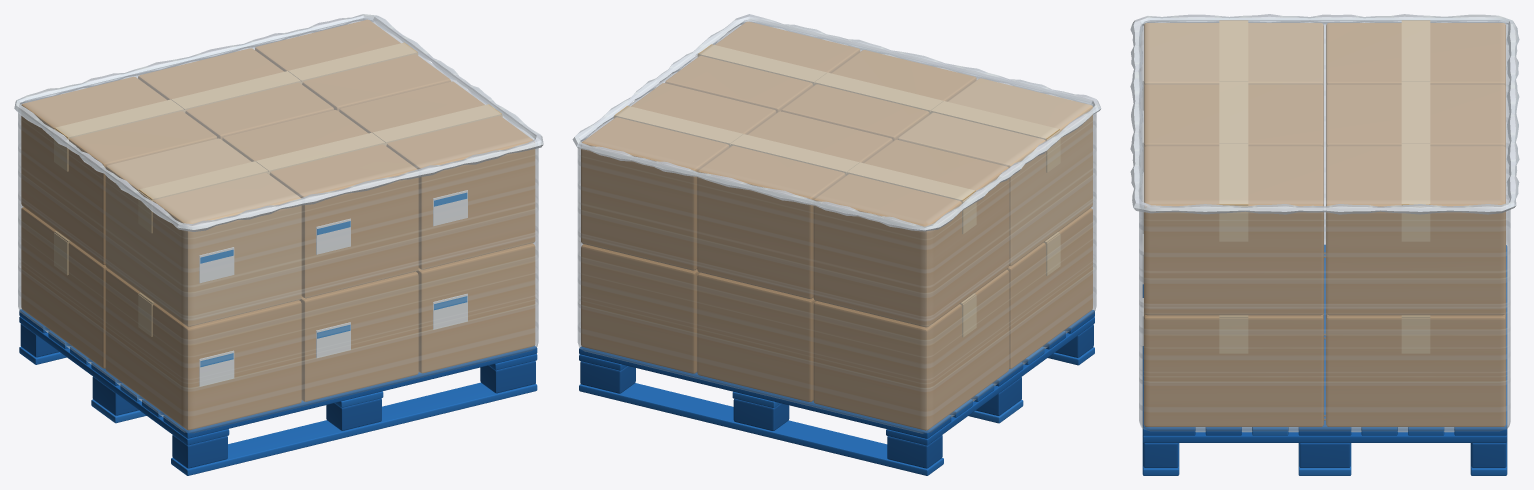
File: pallet_load_half.glb
The picture shows the model from 3 angles, left to right: view 1: azimuth 30°, elevation 25°; view 2: azimuth 150°, elevation 25°; view 3: azimuth 270°, elevation 25°; orthographic projection. The views are drawn at different scales.
Parts seen in each view (by area): view 1: film_geo, load_geo, pallet_geo; view 2: film_geo, load_geo, pallet_geo; view 3: film_geo, load_geo, pallet_geo.
Part boxes in pixels (x1,y1,x2,y2): film_geo: [14, 14, 543, 432]; load_geo: [21, 19, 535, 430]; pallet_geo: [19, 309, 537, 475]; film_geo: [572, 14, 1101, 433]; load_geo: [581, 21, 1092, 430]; pallet_geo: [579, 310, 1094, 475]; film_geo: [1130, 14, 1519, 432]; load_geo: [1142, 20, 1505, 426]; pallet_geo: [1142, 244, 1507, 475].
Size of the model in its own units: 1.27 by 0.8293 by 1.07.
11 materials, 1 textured.
